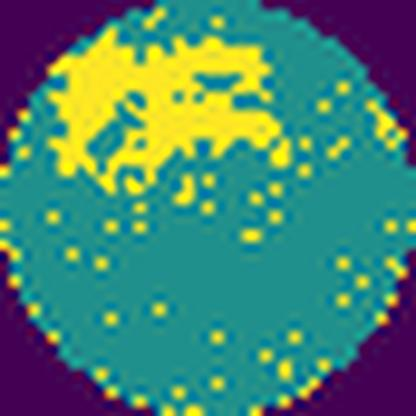Loc: (51, 23, 284, 195)
